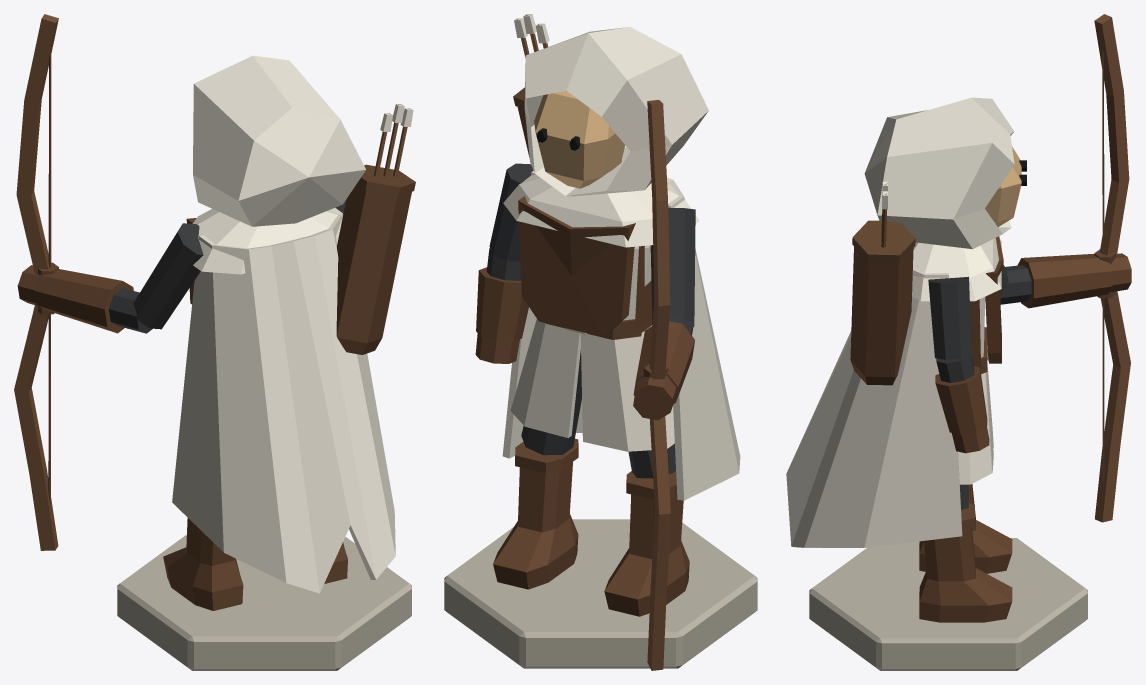
The model's file is human_archer_t4.glb.
3 views of the same model, side by side, from view 1: azimuth 30°, elevation 25°; view 2: azimuth 150°, elevation 25°; view 3: azimuth 270°, elevation 25° (orthographic). The views are drawn at different scales.
Visible parts, largest first — view 1: Archer_Long_Two_Point_Cape, Foundation_Hexagonal_Stone, Pointed_Open_Hood_Shell, Single_Right_Back_Quiver, Continuous_Recurve_Bow, Boot_-1, Continuous_Shoulder_Mantle, left_upper_sleeve, left_bracer, Taut_Bow_String, Quiver_Mouth_Band, left_lower_sleeve (+1 smaller); view 2: Foundation_Hexagonal_Stone, Pointed_Open_Hood_Shell, leather_jerkin, Archer_Long_Two_Point_Cape, Continuous_Recurve_Bow, Boot_1, Continuous_Shoulder_Mantle, Angular_Face, Boot_-1, Split_Tunic_Front_1, Split_Tunic_Front_-1, Continuous_Split_Tunic_Skirt (+14 smaller); view 3: Archer_Long_Two_Point_Cape, Foundation_Hexagonal_Stone, Pointed_Open_Hood_Shell, Continuous_Recurve_Bow, Single_Right_Back_Quiver, Boot_1, left_bracer, Continuous_Shoulder_Mantle, right_upper_sleeve, right_bracer, Quiver_Mouth_Band, Boot_-1 (+9 smaller).
Part boxes in pixels (<box>): Archer_Long_Two_Point_Cape: <box>172,208,395,593</box>; Foundation_Hexagonal_Stone: <box>117,534,411,670</box>; Pointed_Open_Hood_Shell: <box>193,55,365,226</box>; Single_Right_Back_Quiver: <box>336,165,413,354</box>; Continuous_Recurve_Bow: <box>14,14,58,550</box>; Boot_-1: <box>163,518,243,610</box>; Continuous_Shoulder_Mantle: <box>192,209,342,274</box>; left_upper_sleeve: <box>133,223,203,329</box>; left_bracer: <box>34,269,133,333</box>; Taut_Bow_String: <box>48,18,51,507</box>; Quiver_Mouth_Band: <box>356,164,415,196</box>; left_lower_sleeve: <box>108,288,152,333</box>; Foundation_Hexagonal_Stone: <box>444,519,757,668</box>; Pointed_Open_Hood_Shell: <box>524,27,708,196</box>; leather_jerkin: <box>518,196,635,336</box>; Archer_Long_Two_Point_Cape: <box>502,171,740,500</box>; Continuous_Recurve_Bow: <box>647,100,670,670</box>; Boot_1: <box>493,462,578,589</box>; Continuous_Shoulder_Mantle: <box>503,174,699,247</box>; Angular_Face: <box>534,90,625,188</box>; Boot_-1: <box>604,494,689,616</box>; Split_Tunic_Front_1: <box>524,324,580,437</box>; Split_Tunic_Front_-1: <box>580,334,628,451</box>; Continuous_Split_Tunic_Skirt: <box>510,319,674,451</box>; Archer_Long_Two_Point_Cape: <box>786,268,962,547</box>; Foundation_Hexagonal_Stone: <box>809,538,1087,670</box>; Pointed_Open_Hood_Shell: <box>864,97,1014,249</box>; Continuous_Recurve_Bow: <box>1094,14,1130,522</box>; Single_Right_Back_Quiver: <box>850,221,913,385</box>; Boot_1: <box>919,528,1012,622</box>; left_bracer: <box>1017,254,1112,308</box>; Continuous_Shoulder_Mantle: <box>912,238,1001,301</box>; right_upper_sleeve: <box>928,276,971,359</box>; right_bracer: <box>935,366,987,434</box>; Quiver_Mouth_Band: <box>852,220,915,262</box>; Boot_-1: <box>919,484,1012,573</box>.
Bounding box in the file's own units: 0.988 × 1.99 × 1.15.
